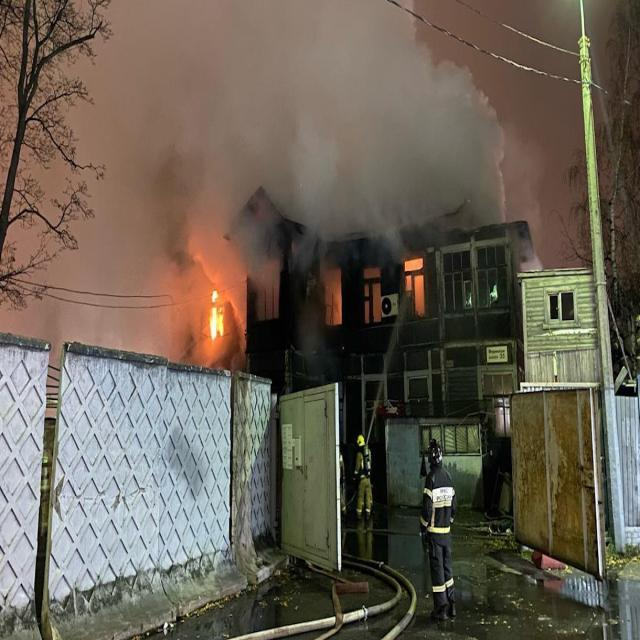Fire: (209, 290, 226, 338)
Smoke: (2, 3, 505, 230), (0, 236, 200, 359)
